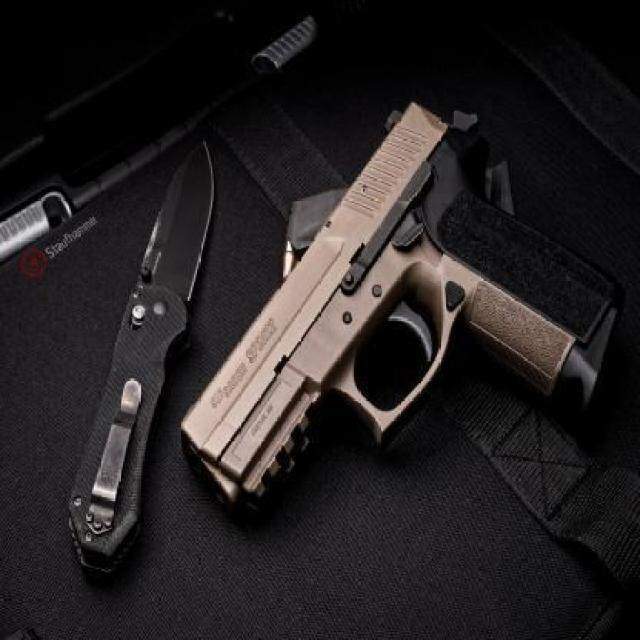Knife: (64, 136, 216, 578)
Pistol: (180, 97, 626, 531)
